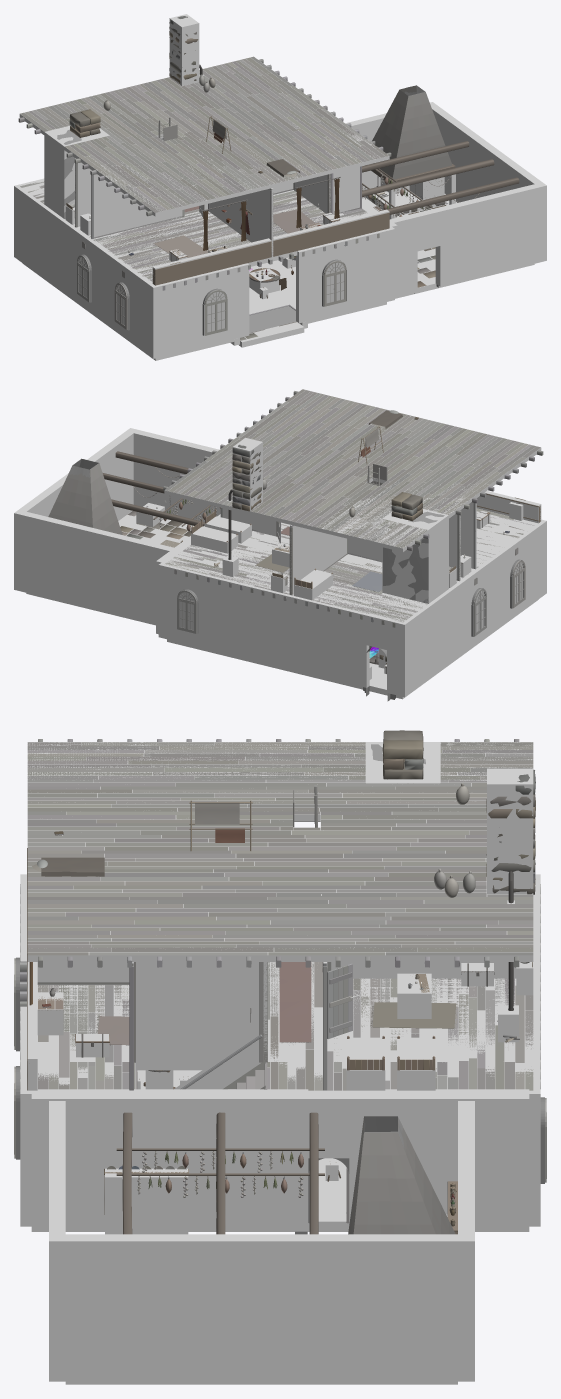
File: tavern_interior.glb
The picture shows the model from 3 angles, top to bottom: view 1: azimuth 30°, elevation 25°; view 2: azimuth 150°, elevation 25°; view 3: azimuth 270°, elevation 25°; orthographic projection. The views are drawn at different scales.
Visible parts, largest first — view 1: hall wall.005, kitchen wall.001, hall wall, hall wall.001, Interior timber +2+1__tav_plank, Interior timber +1+0__tav_plank, Interior timber +1+1__tav_plank, Interior timber +2+0__tav_plank, kitchen wall.004, attic floor.001, upper floor, attic floor (+53 smaller); view 2: hall wall.003, kitchen wall.003, hall wall.005, Interior timber +1+0__tav_plank, Interior timber +1+1__tav_plank, Interior timber +2+0__tav_plank, Interior timber +2+1__tav_plank, attic floor, kitchen wall.001, upper breast, attic floor.001, upper floor.002 (+46 smaller); view 3: kitchen wall.004, hall wall.006, Interior timber +2+1__tav_plank, Interior timber +1+0__tav_plank, Interior timber +2+0__tav_plank, Interior timber +1+1__tav_plank, hall wall.007, stairwell wall, attic floor.001, Interior masonry +4+1__tav_limewash, attic floor, Interior timber +0+0__tav_plank (+49 smaller).
Boxes of the visible parts, left/top/right/bottom form: hall wall.005: left=17, top=187, right=153, bottom=356; kitchen wall.001: left=435, top=182, right=546, bottom=286; hall wall: left=150, top=263, right=249, bottom=358; hall wall.001: left=296, top=227, right=394, bottom=323; Interior timber +2+1__tav_plank: left=156, top=56, right=324, bottom=142; Interior timber +1+0__tav_plank: left=114, top=133, right=290, bottom=204; Interior timber +1+1__tav_plank: left=79, top=82, right=229, bottom=172; Interior timber +2+0__tav_plank: left=236, top=108, right=388, bottom=179; kitchen wall.004: left=431, top=105, right=541, bottom=202; attic floor.001: left=116, top=57, right=389, bottom=193; upper floor: left=73, top=190, right=323, bottom=281; attic floor: left=19, top=95, right=235, bottom=216; hall wall.003: left=158, top=562, right=369, bottom=687; kitchen wall.003: left=14, top=510, right=173, bottom=624; hall wall.005: left=404, top=522, right=543, bottom=694; Interior timber +1+0__tav_plank: left=341, top=413, right=507, bottom=494; Interior timber +1+1__tav_plank: left=273, top=456, right=457, bottom=532; Interior timber +2+0__tav_plank: left=237, top=389, right=401, bottom=464; Interior timber +2+1__tav_plank: left=165, top=431, right=347, bottom=514; attic floor: left=321, top=428, right=541, bottom=551; kitchen wall.001: left=126, top=428, right=220, bottom=521; upper breast: left=382, top=508, right=448, bottom=603; attic floor.001: left=164, top=390, right=441, bottom=528; upper floor.002: left=197, top=553, right=427, bottom=622; kitchen wall.004: left=65, top=1234, right=457, bottom=1381; hall wall.006: left=31, top=1089, right=308, bottom=1231; Interior timber +2+1__tav_plank: left=183, top=866, right=533, bottom=955; Interior timber +1+0__tav_plank: left=27, top=772, right=308, bottom=865; Interior timber +2+0__tav_plank: left=27, top=866, right=327, bottom=955; Interior timber +1+1__tav_plank: left=176, top=772, right=486, bottom=865; hall wall.007: left=349, top=1089, right=529, bottom=1231; stairwell wall: left=136, top=962, right=259, bottom=1062; attic floor.001: left=27, top=827, right=533, bottom=961; Interior masonry +4+1__tav_limewash: left=350, top=1116, right=447, bottom=1234; attic floor: left=27, top=742, right=532, bottom=821; Interior timber +0+0__tav_plank: left=27, top=742, right=307, bottom=771.
Bounding box in the file's own units: 23.39 × 11.84 × 14.33.
